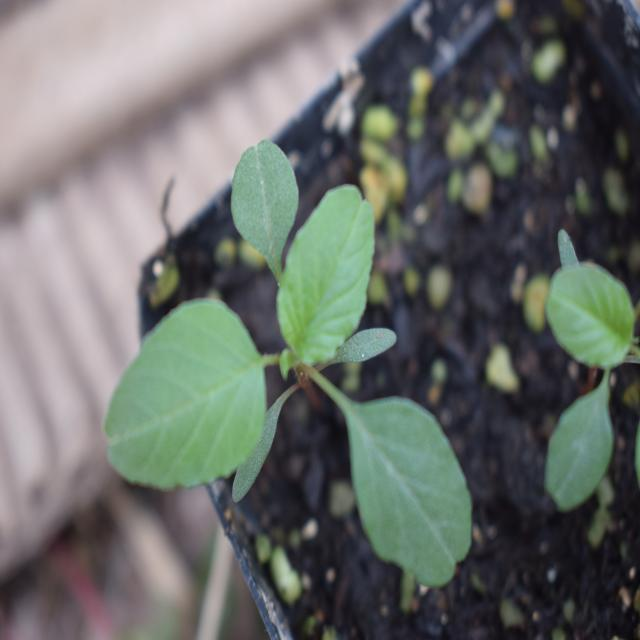pigweed: (118, 158, 474, 574)
